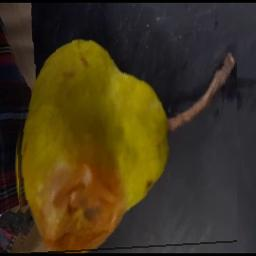Pear Rotten: (12, 31, 237, 255)
